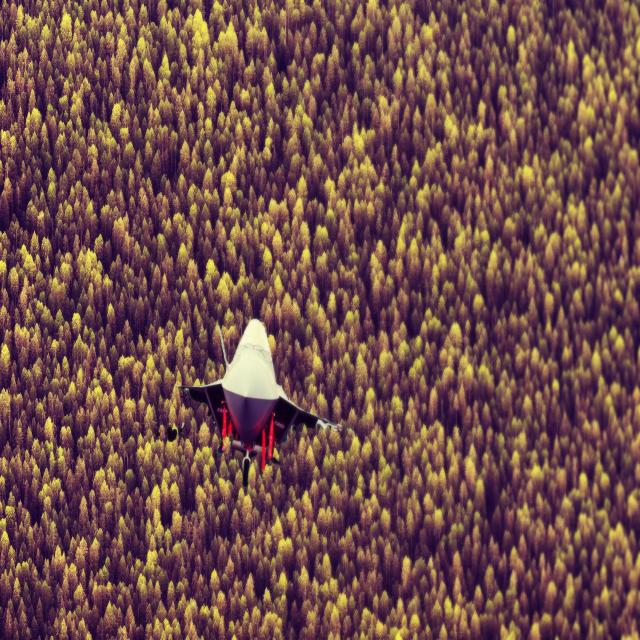airplane: (176, 317, 353, 487)
